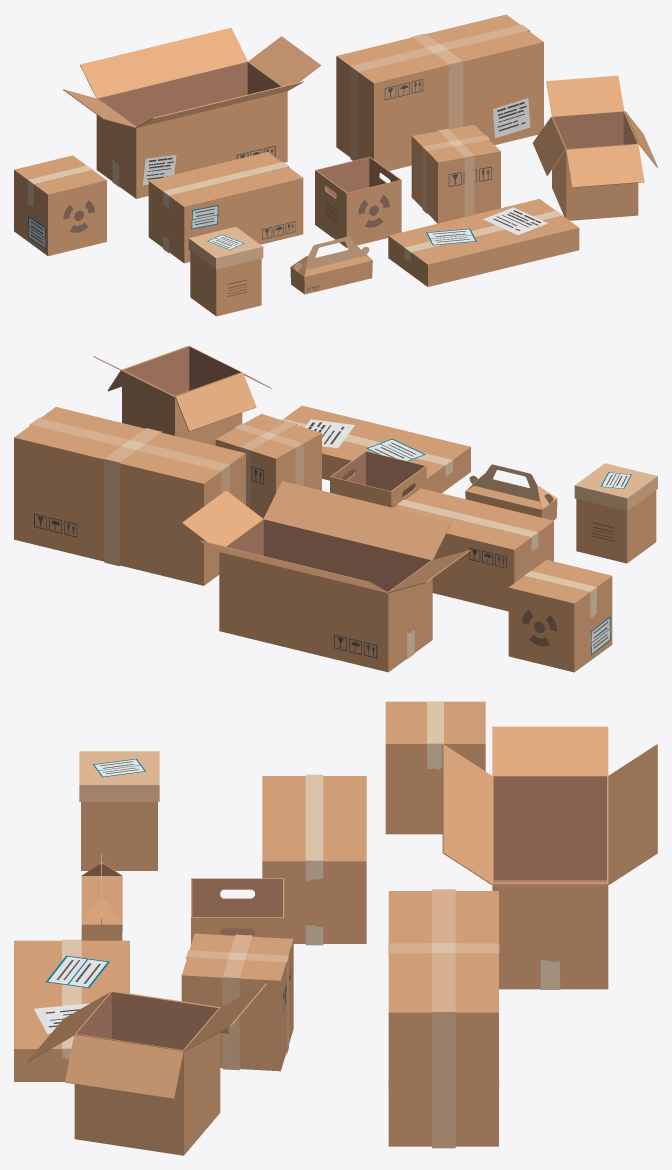
The model's file is free-pack-boxes.glb.
The picture shows the model from 3 angles, top to bottom: view 1: azimuth 30°, elevation 25°; view 2: azimuth 150°, elevation 25°; view 3: azimuth 270°, elevation 25°; orthographic projection. The views are drawn at different scales.
Visible parts, largest first — view 1: SM_Boxes_03, SM_Boxes_09, SM_Boxes_02, SM_Boxes_06, SM_Boxes_04, SM_Boxes_10, SM_Boxes_08, SM_Boxes_07, SM_Boxes_05, SM_Boxes_01; view 2: SM_Boxes_03, SM_Boxes_09, SM_Boxes_06, SM_Boxes_10, SM_Boxes_02, SM_Boxes_05, SM_Boxes_04, SM_Boxes_08, SM_Boxes_07, SM_Boxes_01; view 3: SM_Boxes_03, SM_Boxes_09, SM_Boxes_02, SM_Boxes_06, SM_Boxes_08, SM_Boxes_04, SM_Boxes_10, SM_Boxes_05, SM_Boxes_07, SM_Boxes_01.
Part boxes in pixels (x1,y1,x2,y2): SM_Boxes_03: (63,28,320,198); SM_Boxes_09: (336,14,543,172); SM_Boxes_02: (533,75,657,220); SM_Boxes_06: (148,152,303,263); SM_Boxes_04: (388,199,579,286); SM_Boxes_10: (14,155,106,256); SM_Boxes_08: (411,125,500,223); SM_Boxes_07: (315,157,401,247); SM_Boxes_05: (188,226,263,316); SM_Boxes_01: (290,236,372,294); SM_Boxes_03: (182,481,469,672); SM_Boxes_09: (14,407,245,585); SM_Boxes_06: (394,488,553,611); SM_Boxes_10: (508,559,612,672); SM_Boxes_02: (93,345,271,445); SM_Boxes_05: (574,463,657,563); SM_Boxes_04: (281,405,470,493); SM_Boxes_08: (215,413,321,518); SM_Boxes_07: (330,451,426,507); SM_Boxes_01: (465,464,557,520); SM_Boxes_03: (442,726,657,989); SM_Boxes_09: (388,889,499,1148); SM_Boxes_02: (27,983,266,1155); SM_Boxes_06: (262,774,366,945); SM_Boxes_08: (181,933,293,1071); SM_Boxes_04: (14,939,129,1081); SM_Boxes_10: (385,701,485,834); SM_Boxes_05: (79,751,159,870); SM_Boxes_07: (191,878,284,944); SM_Boxes_01: (81,854,122,940).
Size of the model in its own units: 1.2 by 0.2049 by 0.8706.
1 material, 1 textured.
